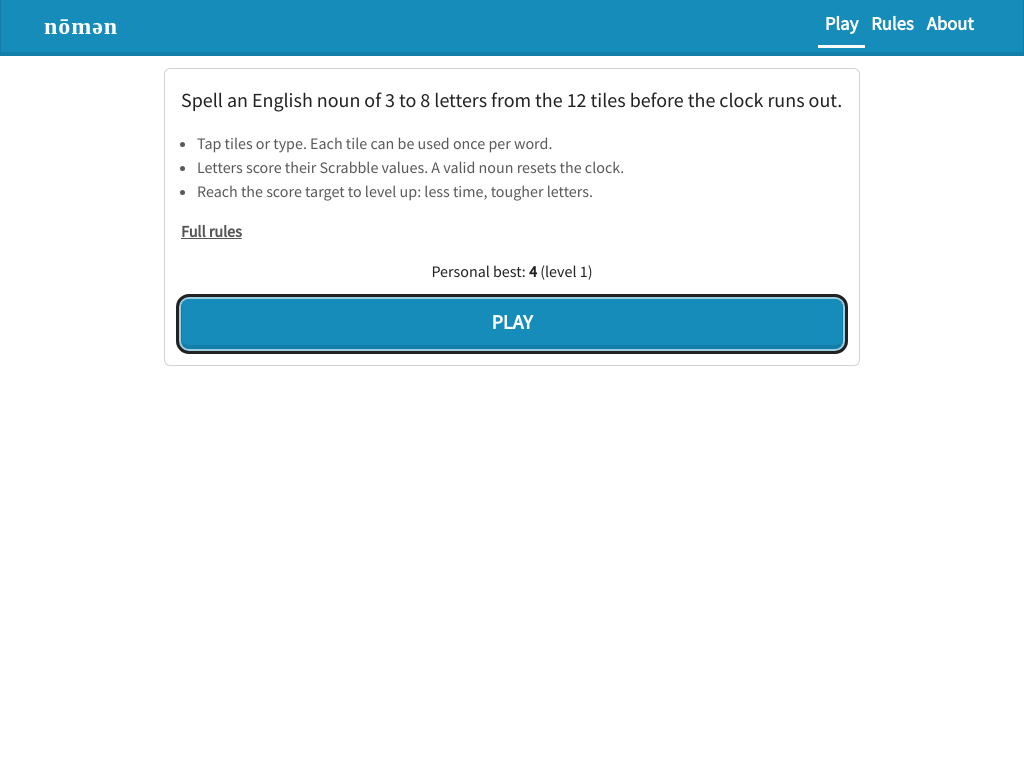
it: User Story 5: keep a personal best › replaces a lower best and says so
Click the button "Play" at {"x": 512, "y": 324}, box [181,299,843,349]
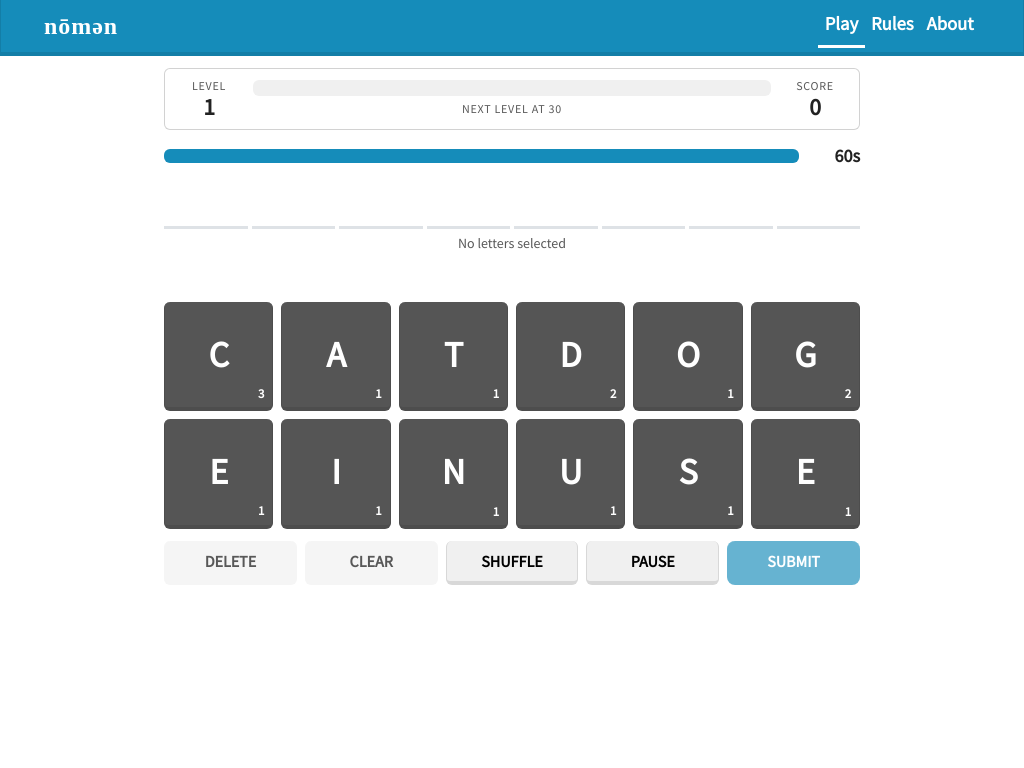
Type keys "cat{Enter}"
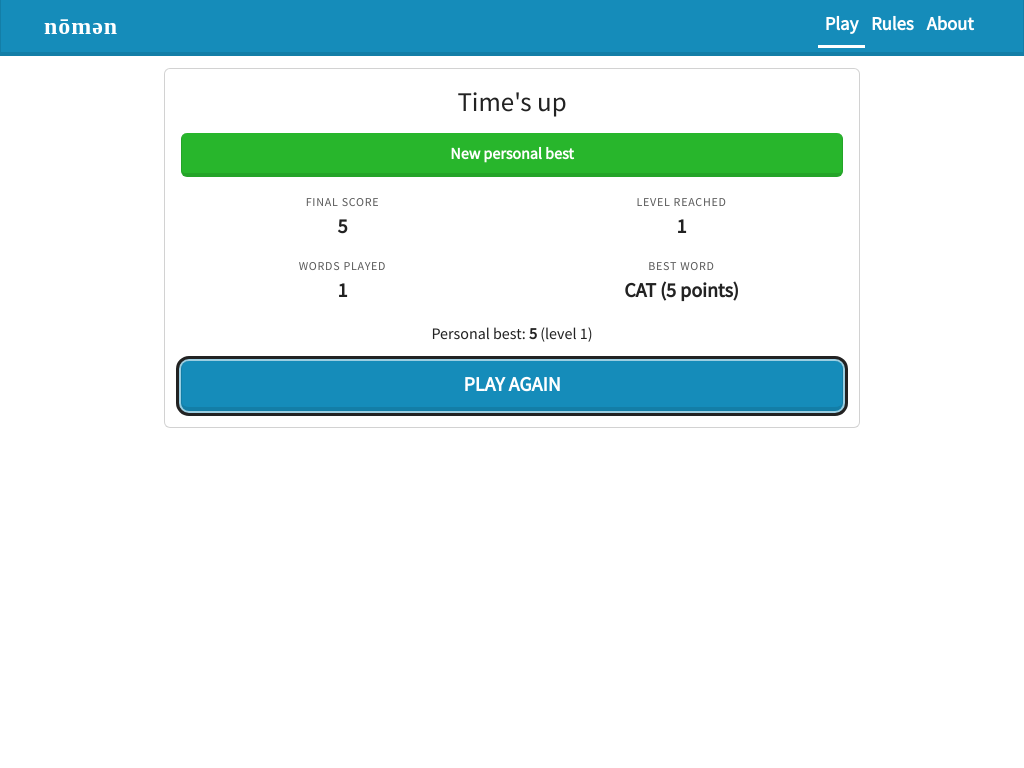
expect the element named "Game over" shows "New personal best": met, box [450,143,574,163]
expect the element named "Game over" shows "Personal best: 5 (level 1)": met, box [164,68,860,428]
